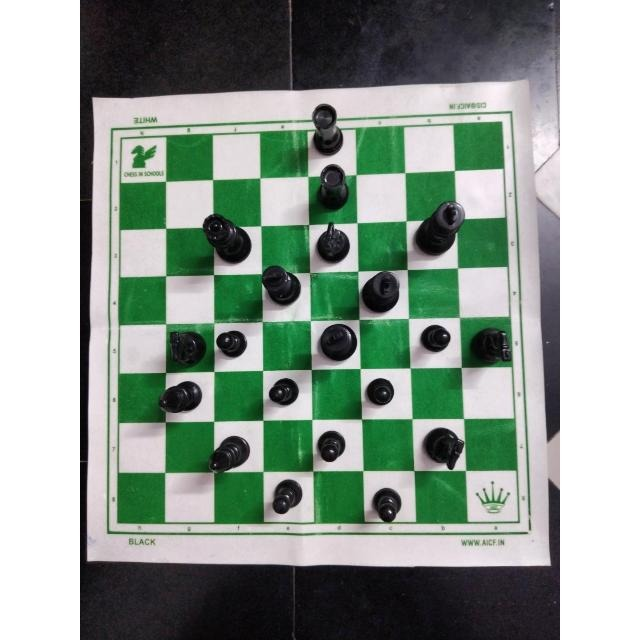black-bishop: (206, 429, 253, 477), (153, 378, 205, 418)
black-king: (411, 198, 467, 258), (359, 267, 402, 315), (259, 262, 303, 306), (314, 321, 357, 362)
black-knight: (419, 422, 469, 477), (306, 215, 356, 266), (156, 321, 208, 367), (465, 323, 517, 367)
black-pawn: (366, 476, 407, 525), (266, 477, 310, 521), (416, 316, 457, 356), (263, 372, 305, 410), (314, 424, 350, 468), (212, 323, 253, 361), (361, 374, 396, 410)
black-queen: (200, 209, 257, 268)
black-rook: (305, 97, 347, 156), (312, 159, 354, 214)
